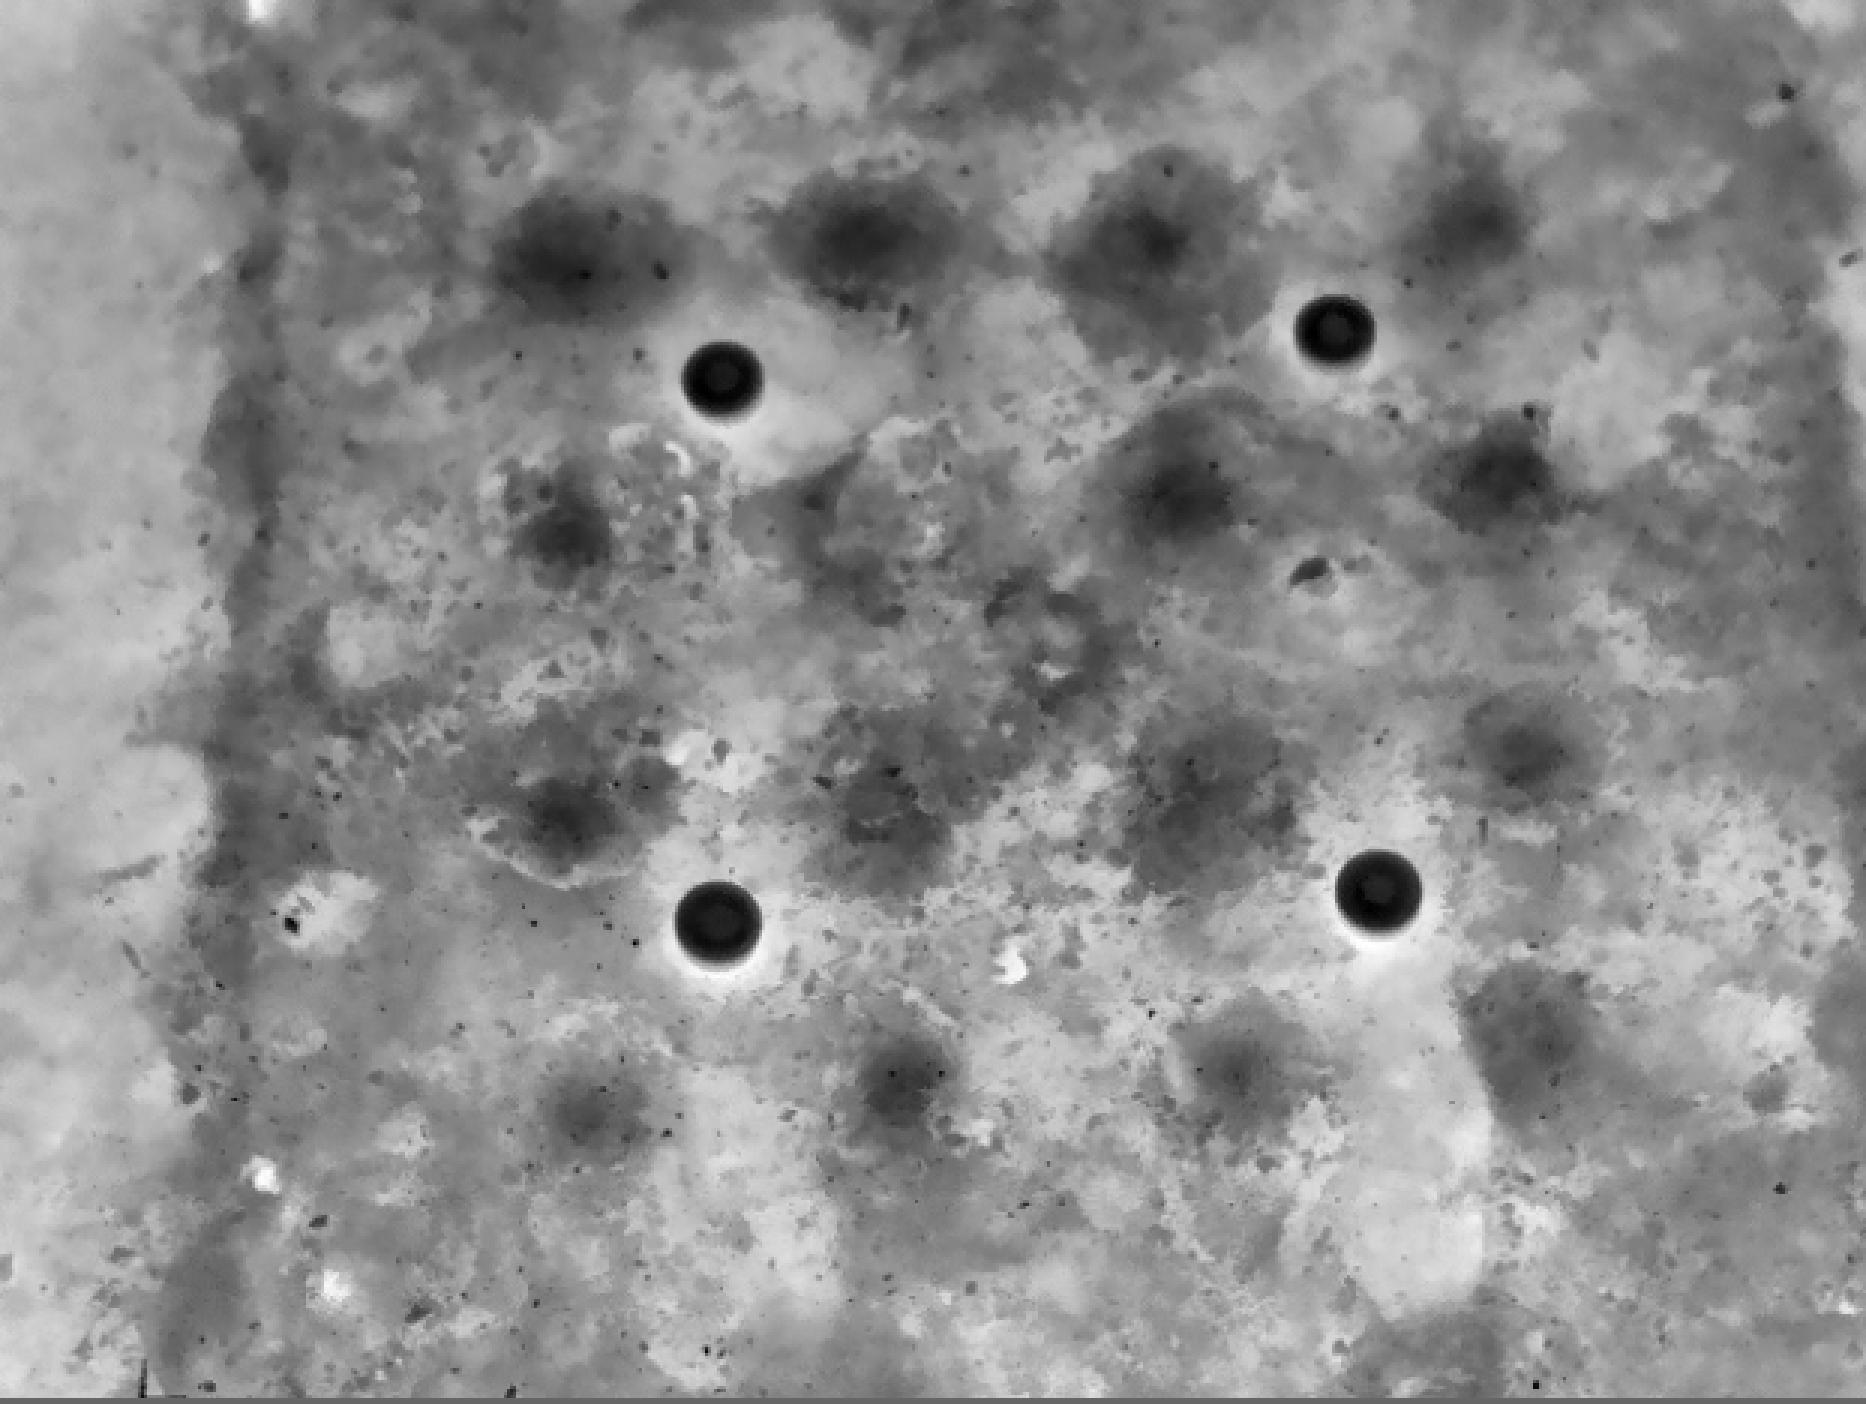mines-gjV8: (1335, 838, 1435, 941), (681, 342, 779, 429), (676, 877, 769, 965), (1292, 285, 1381, 372)
